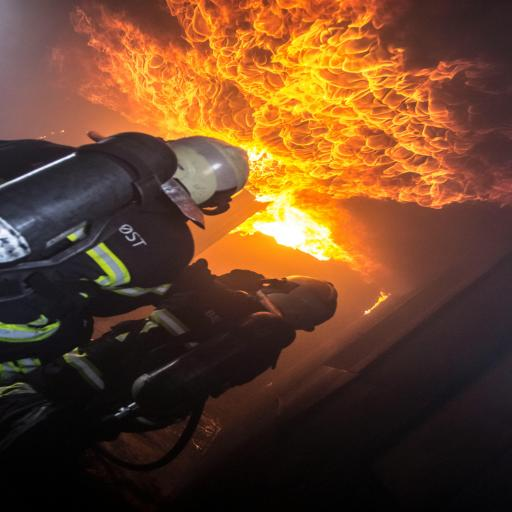buildingfire: (0, 0, 512, 296)
